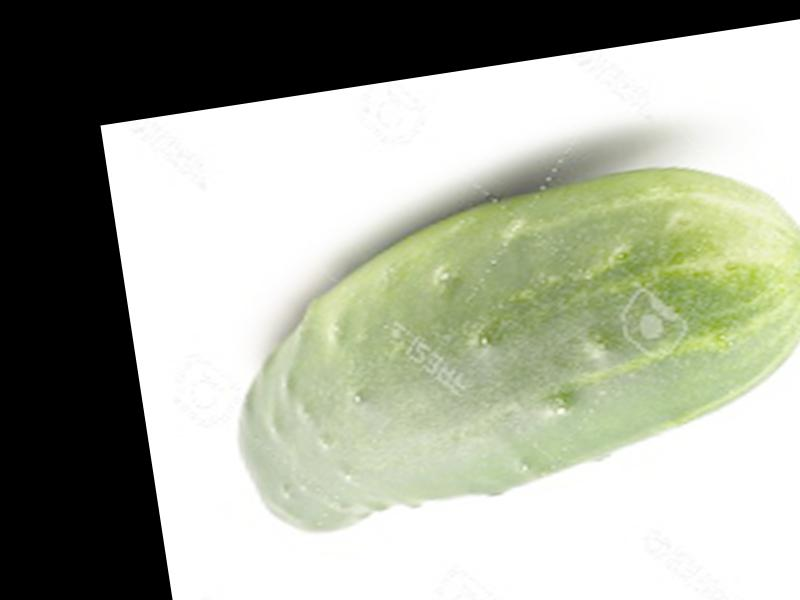Cucumber: (206, 141, 800, 542)
